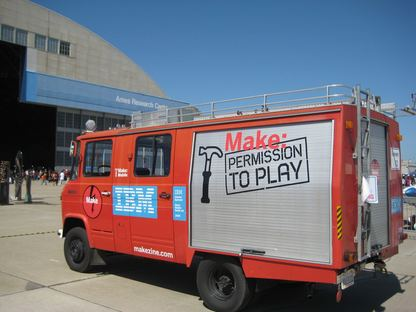truck: (65, 71, 407, 298)
